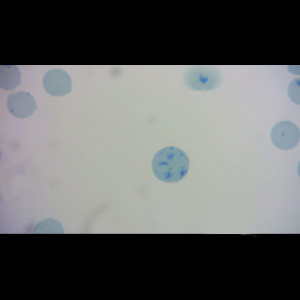aggregate reticulocyte: (151, 145, 191, 184)
punctate reticulocyte: (269, 119, 300, 153), (42, 68, 74, 98), (6, 90, 38, 119)
